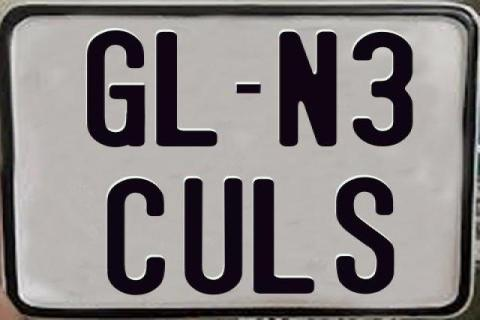0: (351, 31, 412, 146)
C: (106, 178, 167, 298)
G: (86, 30, 147, 148)
L: (154, 30, 218, 146), (252, 178, 314, 292)
N: (276, 31, 338, 147)
S: (335, 175, 398, 297)
U: (184, 178, 244, 300)
